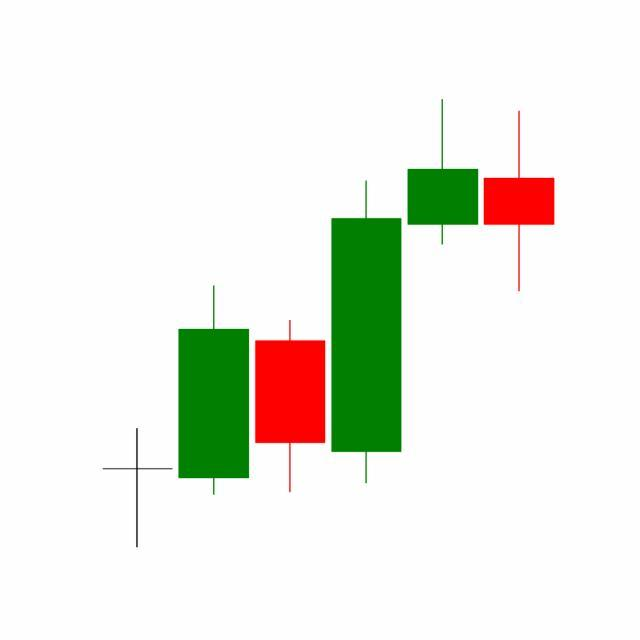Three Outside Up-Down: (252, 100, 482, 498)
